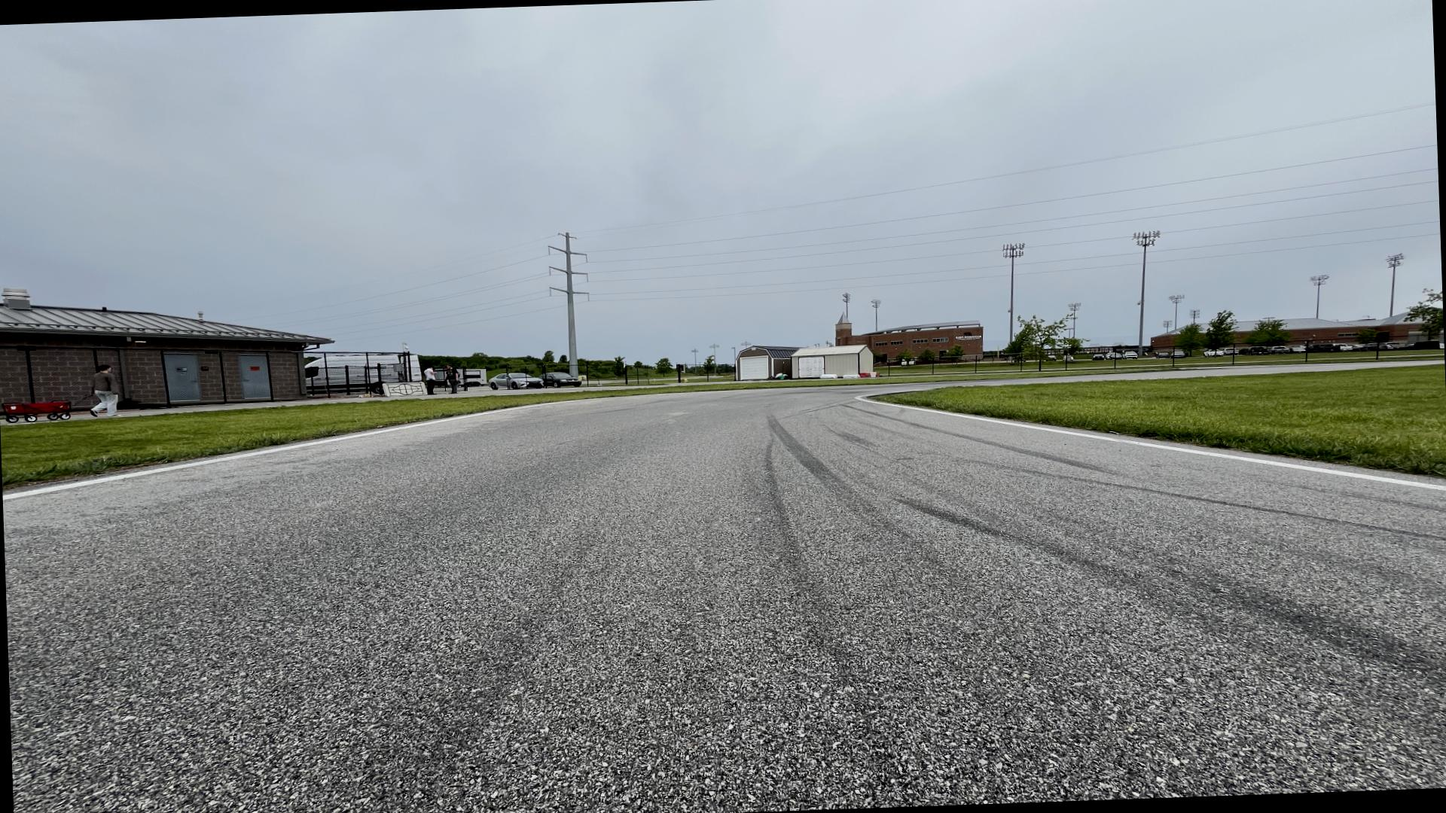white-line: (3, 388, 776, 501), (855, 391, 1445, 491)
